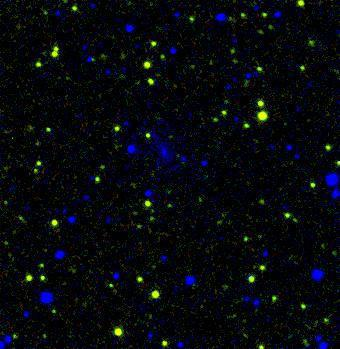star: (132, 119, 162, 149)
